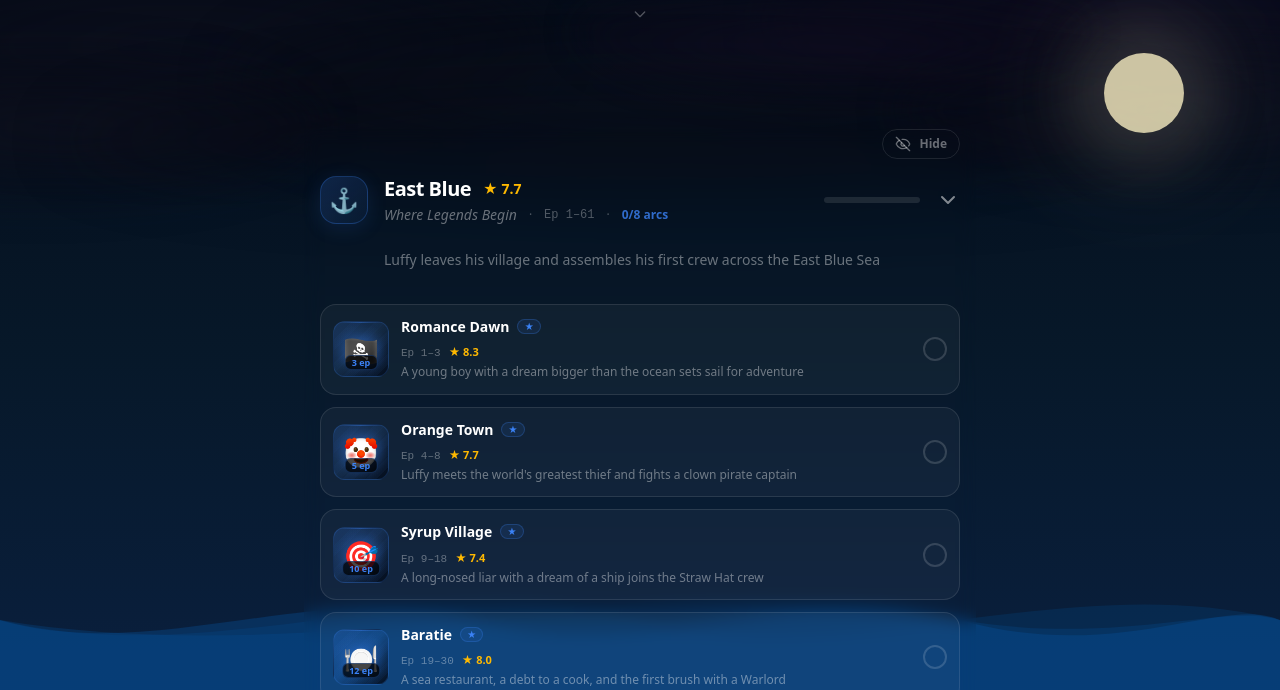
Test: app browser flows › renders the home page and opens an arc detail
(page scrolled)
Expected: the link "East Blue" is shown, [384,175,471,203]
Step 1. Click the link "3 ep Romance Dawn" → (361,349), box [321,305,959,394]
(page scrolled)
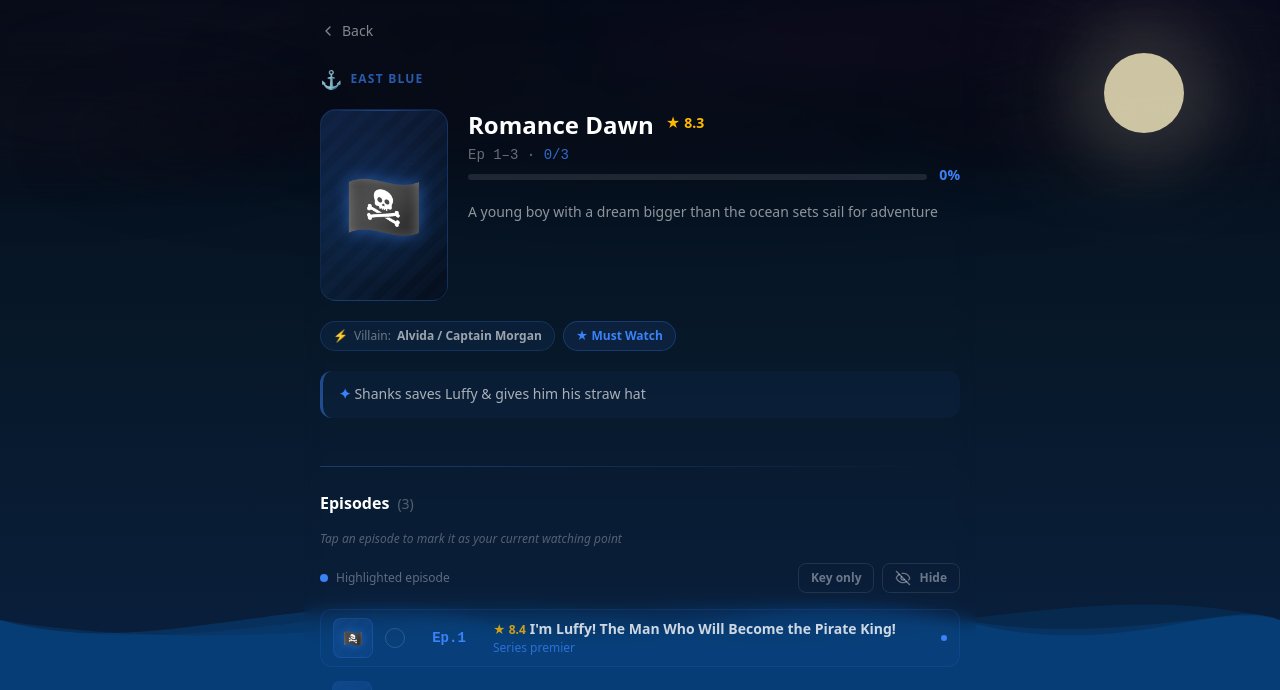
Expected: the heading "Romance Dawn" is shown, [468,109,654,141]
Result: the text "Tap an episode to mark it as your current watching point" is shown at [320,530,622,547]
